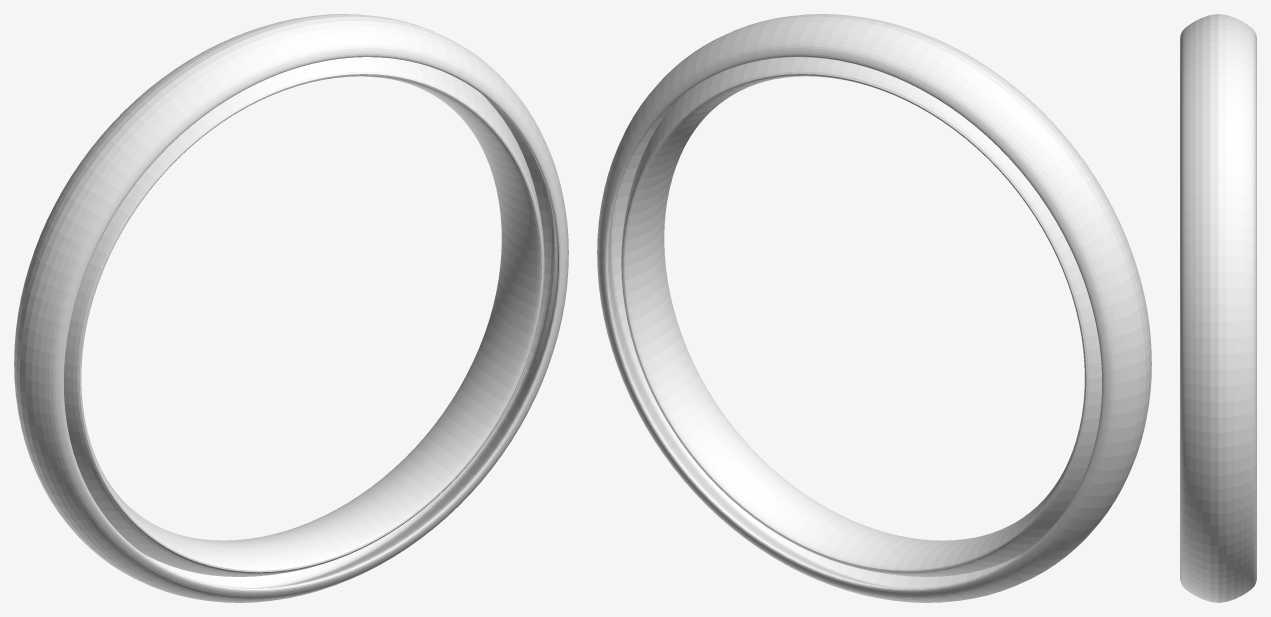
The model's file is CalibrationRing 1.glb.
The picture shows the model from 3 angles, left to right: view 1: azimuth 30°, elevation 25°; view 2: azimuth 150°, elevation 25°; view 3: azimuth 270°, elevation 25°; orthographic projection. The views are drawn at different scales.
Parts seen in each view (by area): view 1: node_id49; view 2: node_id49; view 3: node_id49.
Part boxes in pixels (box(x1,y1,x2,y2)): node_id49: box(14, 14, 568, 602); node_id49: box(597, 14, 1151, 602); node_id49: box(1180, 14, 1256, 602).
Size of the model in its own units: 0.512 by 0.512 by 0.0667.
1 material, 1 textured.
